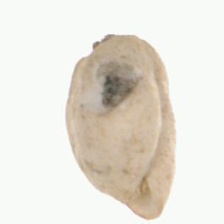L1: (116, 177, 165, 221), (75, 31, 139, 56)
L2: (65, 31, 176, 221)
